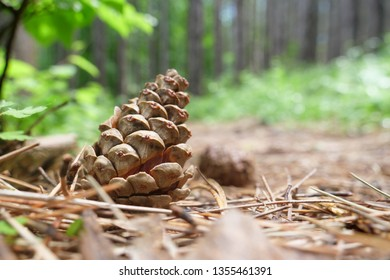Pc: (81, 64, 190, 207)
